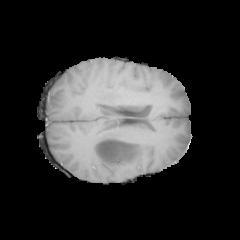glioma: (92, 132, 150, 170)
